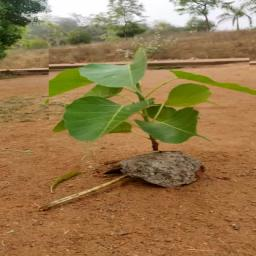LEAVS: (49, 49, 251, 151)
